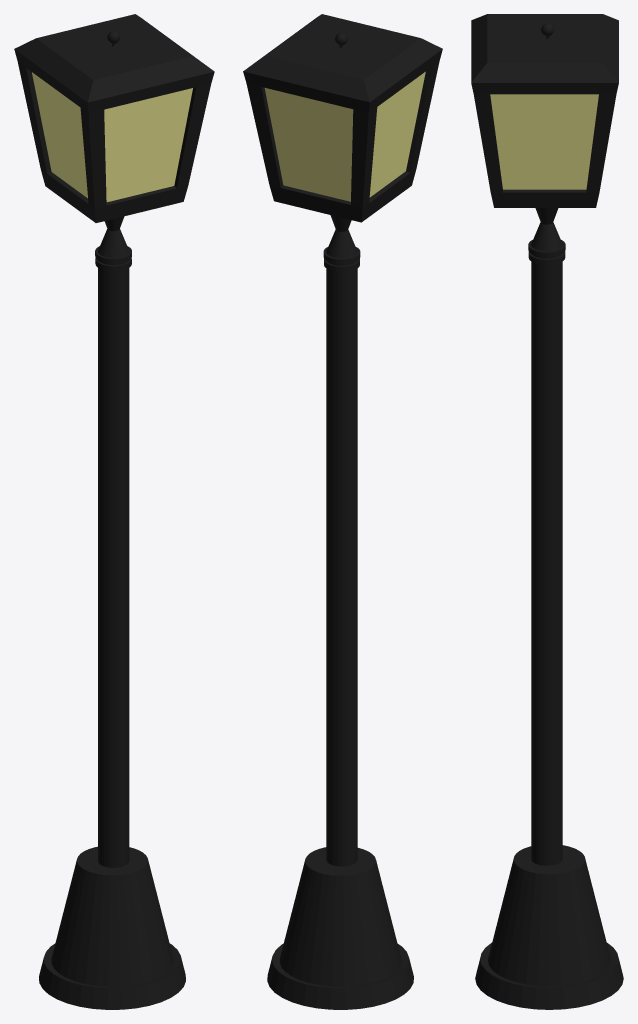
The model's file is farol.fbx.
The picture shows the model from 3 angles, left to right: view 1: azimuth 30°, elevation 25°; view 2: azimuth 150°, elevation 25°; view 3: azimuth 270°, elevation 25°; orthographic projection.
Visible parts, largest first — view 1: Cube; view 2: Cube; view 3: Cube.
Boxes of the visible parts, x1,y1,x2,y2 form: Cube: (14, 14, 214, 1009); Cube: (243, 14, 442, 1009); Cube: (471, 14, 623, 1009).
Size of the model in its own units: 105 by 747 by 108.
